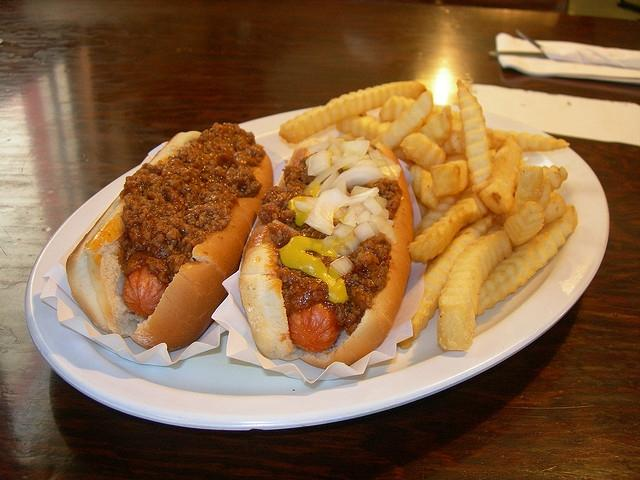onion: (304, 187, 350, 236), (303, 155, 358, 195), (330, 166, 383, 190), (332, 172, 377, 193), (369, 214, 396, 246), (342, 187, 380, 207), (331, 155, 377, 171), (332, 232, 360, 257), (308, 150, 330, 176), (342, 140, 370, 159), (353, 222, 375, 244), (330, 256, 354, 276), (363, 195, 384, 215), (368, 150, 388, 168), (332, 223, 354, 239), (348, 202, 367, 216), (308, 142, 329, 154), (295, 201, 316, 212), (356, 210, 372, 224), (367, 221, 380, 237)
